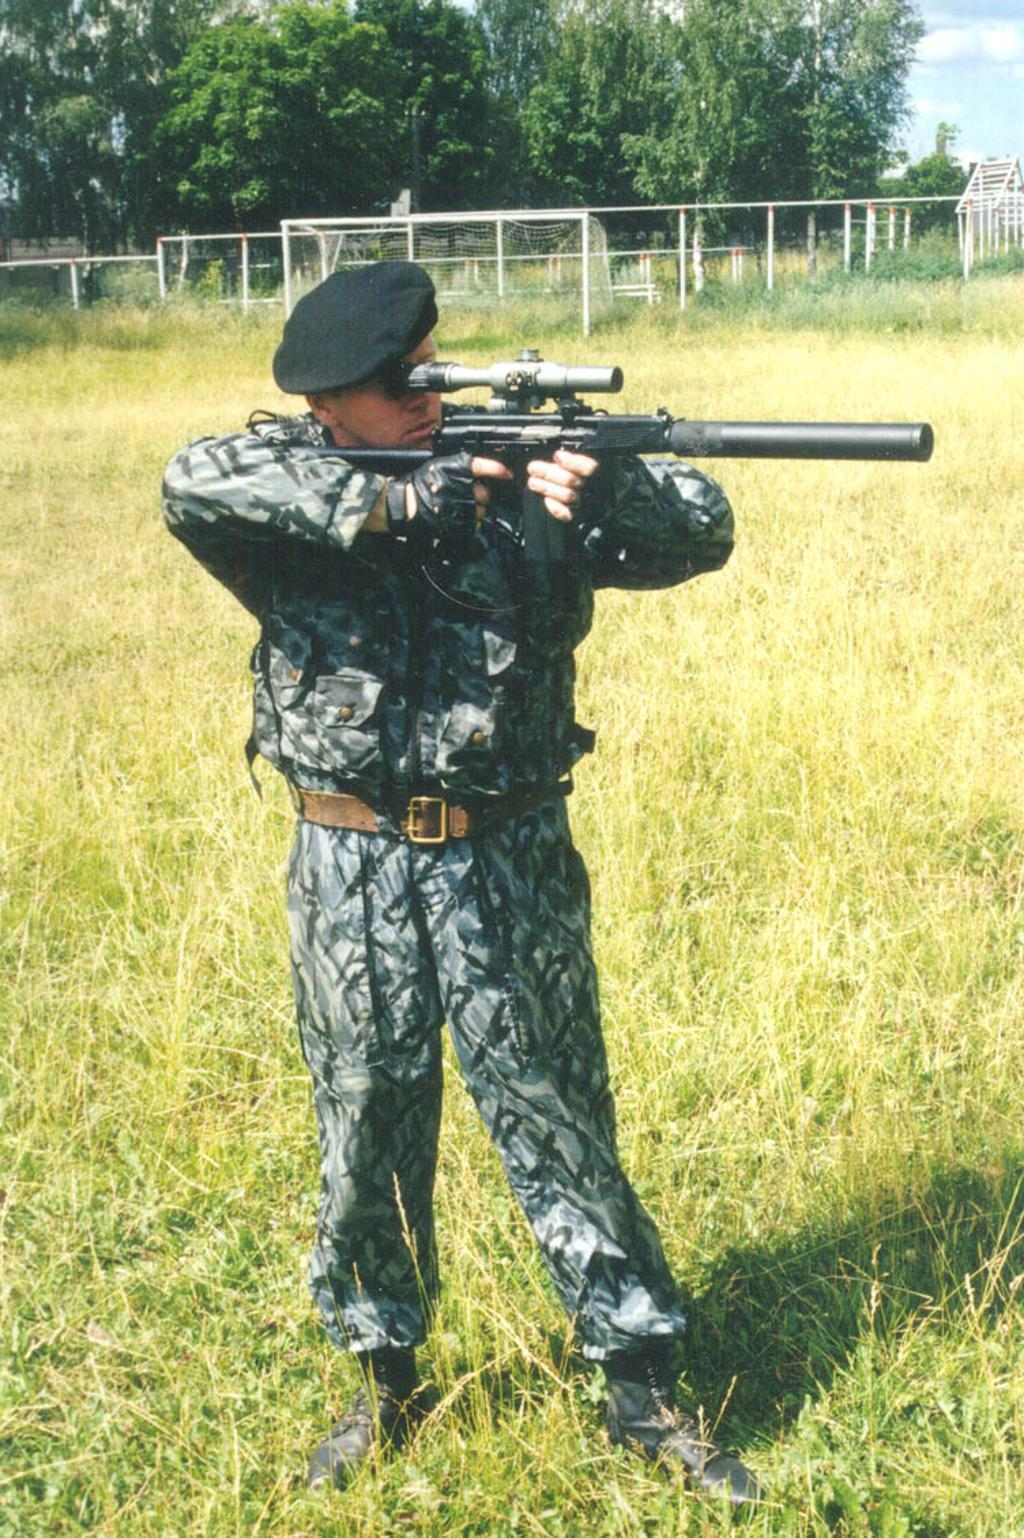face: (346, 319, 442, 463)
